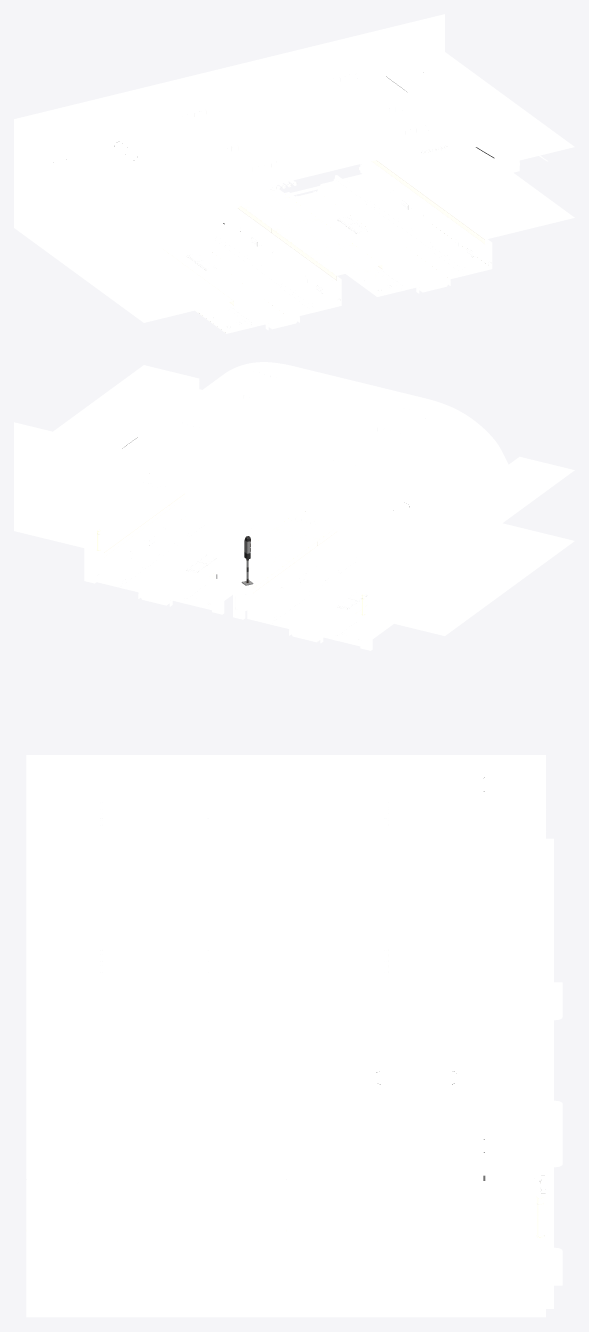
The model's file is Ped_Tunnel_End_02.fbx.
The picture shows the model from 3 angles, top to bottom: view 1: azimuth 30°, elevation 25°; view 2: azimuth 150°, elevation 25°; view 3: azimuth 270°, elevation 25°; orthographic projection. The views are drawn at different scales.
Parts seen in each view (by area): view 1: Ped_Tunnel_End_02; view 2: Ped_Tunnel_End_02; view 3: Ped_Tunnel_End_02.
Part boxes in pixels (box(x1,y1,x2,y2)): Ped_Tunnel_End_02: box(14, 14, 574, 333); Ped_Tunnel_End_02: box(14, 362, 574, 650); Ped_Tunnel_End_02: box(26, 755, 562, 1317).
Bounding box in the file's own units: 1916 × 627 × 1032.
